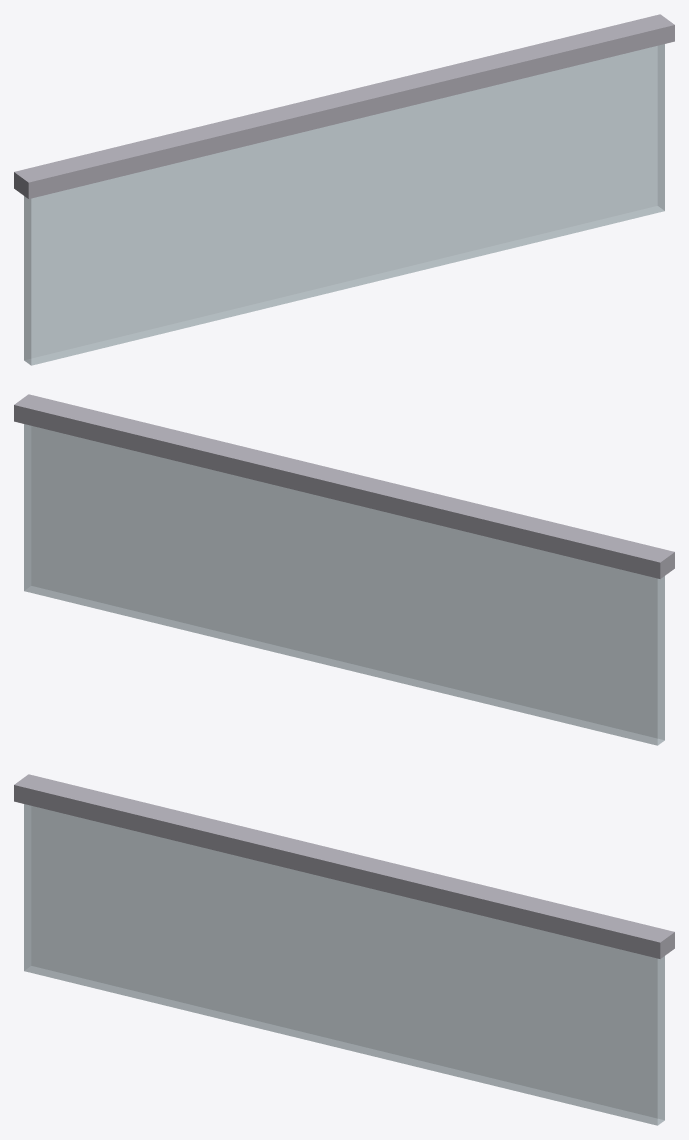
Rendered from GlassRailing.glb.
3 renders of one model, top to bottom at view 1: azimuth 30°, elevation 25°; view 2: azimuth 150°, elevation 25°; view 3: azimuth 330°, elevation 25°, orthographic.
Parts seen in each view (by area): view 1: GlassRailing_1, GlassRailing_0; view 2: GlassRailing_1, GlassRailing_0; view 3: GlassRailing_1, GlassRailing_0.
Boxes of the visible parts, x1,y1,x2,y2 form: GlassRailing_1: [24, 44, 664, 365]; GlassRailing_0: [14, 14, 674, 198]; GlassRailing_1: [24, 424, 664, 745]; GlassRailing_0: [14, 394, 674, 578]; GlassRailing_1: [24, 804, 664, 1125]; GlassRailing_0: [14, 774, 674, 958].
Bounding box in the file's own units: 10.2 × 2.82 × 0.4.
